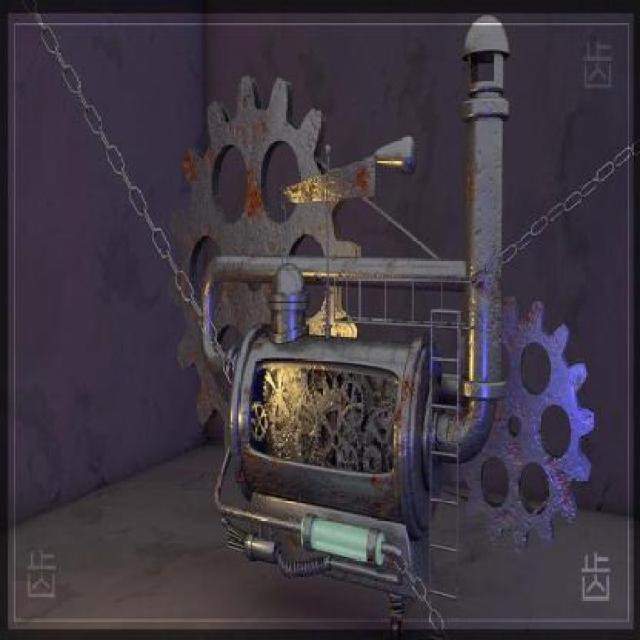Gear: (165, 72, 364, 445), (451, 296, 598, 554), (337, 377, 365, 428), (249, 400, 271, 441)
